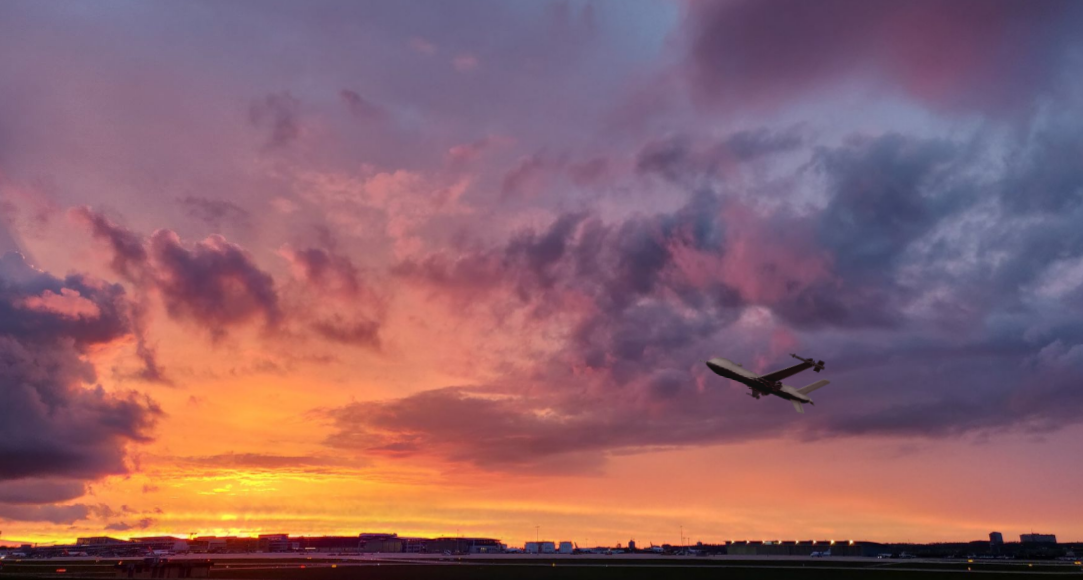military drone: (705, 352, 830, 414)
